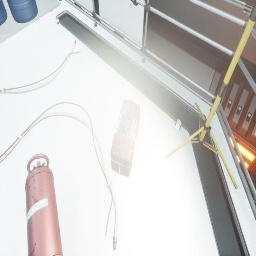FirstAidBox ,: (110, 99, 140, 177)
NitrogenTank ,: (25, 154, 63, 256)
